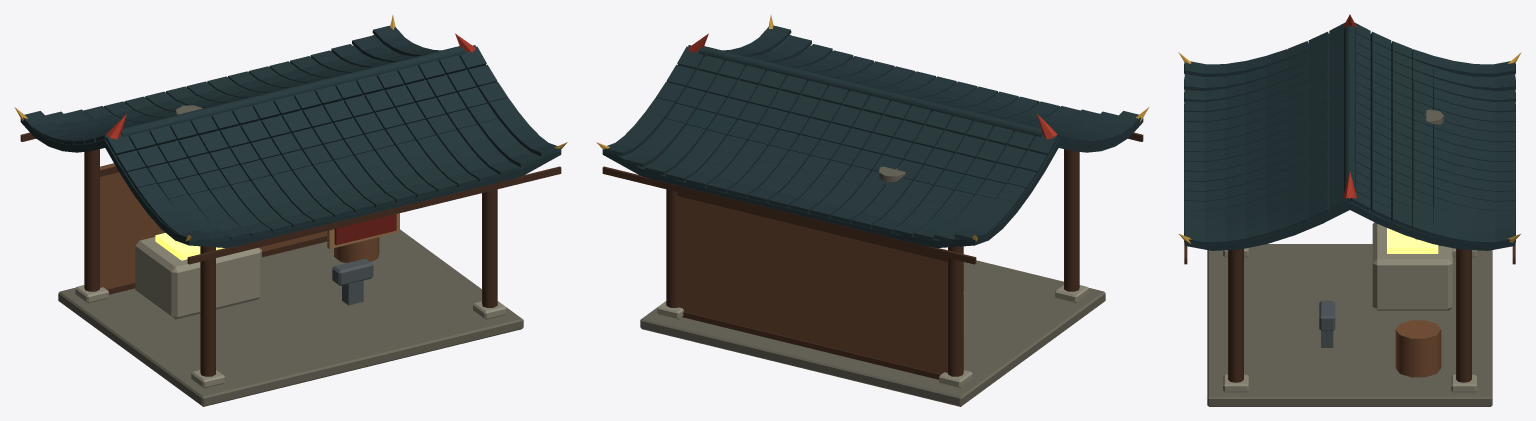
File: smithy.glb
The picture shows the model from 3 angles, left to right: view 1: azimuth 30°, elevation 25°; view 2: azimuth 150°, elevation 25°; view 3: azimuth 270°, elevation 25°; orthographic projection.
Visible parts, largest first — view 1: Smithy; view 2: Smithy; view 3: Smithy.
Boxes of the visible parts, x1,y1,x2,y2 form: Smithy: (14,15,567,406); Smithy: (596,15,1149,406); Smithy: (1178,14,1521,406).
Size of what is drawn, in the model's own units: 7.53 by 4.6 by 6.02.
